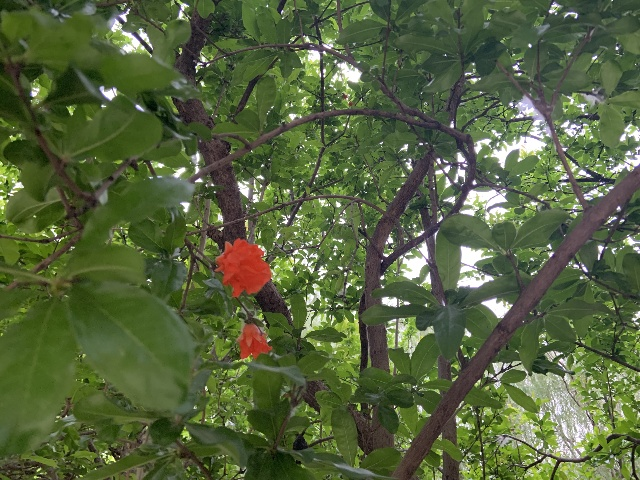flower: (214, 237, 271, 297), (236, 323, 272, 360)
